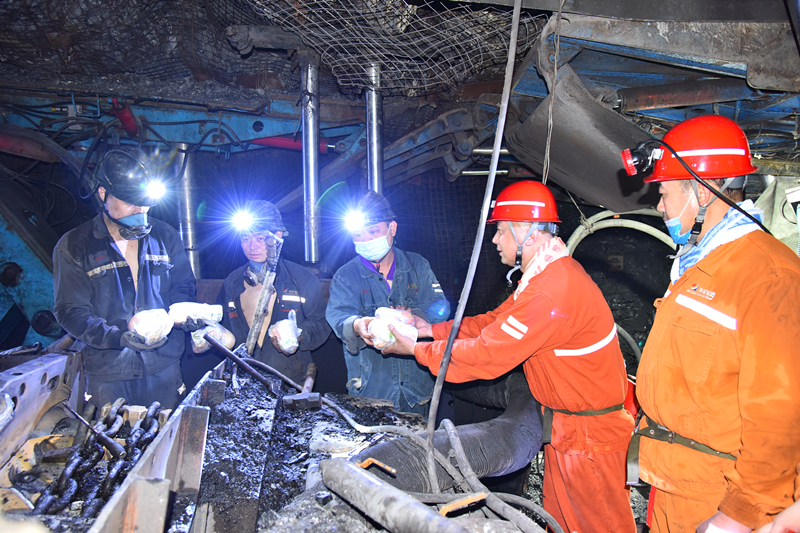helmet: (639, 112, 764, 244), (89, 139, 174, 246), (478, 175, 558, 269), (342, 188, 416, 268), (226, 197, 290, 273)
